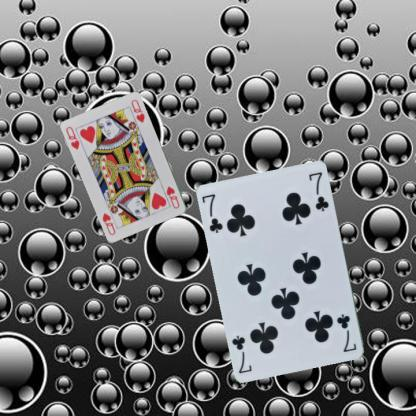7c: (199, 192, 224, 234), (335, 312, 358, 354)
Qh: (63, 124, 81, 151), (164, 184, 181, 209)
